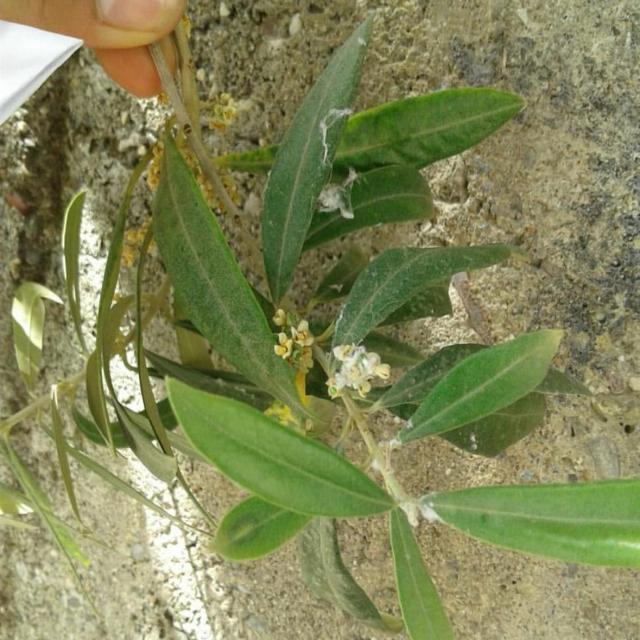Psyllid: (326, 345, 390, 398), (366, 416, 411, 476), (394, 486, 444, 528), (316, 168, 358, 218), (320, 108, 350, 172)
